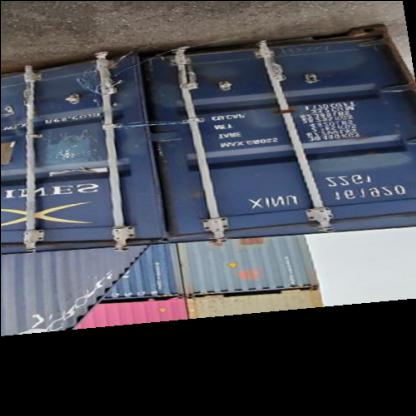Damage: (66, 62, 121, 119), (296, 46, 378, 84), (162, 60, 244, 96), (34, 130, 98, 173)
